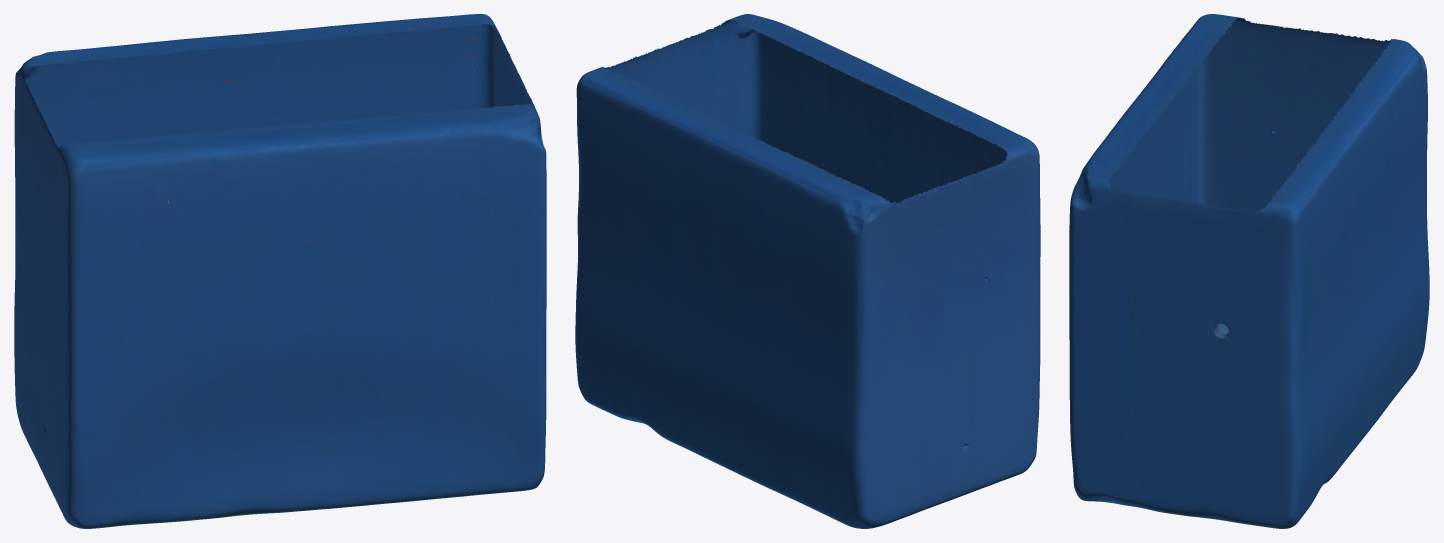
The model's file is block_05.glb.
The picture shows the model from 3 angles, left to right: view 1: azimuth 30°, elevation 25°; view 2: azimuth 150°, elevation 25°; view 3: azimuth 270°, elevation 25°; orthographic projection. The views are drawn at different scales.
Parts seen in each view (by area): view 1: block_05_part_01, block_05_part_03, block_05_part_02; view 2: block_05_part_02, block_05_part_03, block_05_part_01; view 3: block_05_part_01, block_05_part_03, block_05_part_02.
Part boxes in pixels (<box>): block_05_part_01: <box>144,14,546,510</box>; block_05_part_03: <box>42,14,530,528</box>; block_05_part_02: <box>14,30,304,503</box>; block_05_part_02: <box>693,119,1018,528</box>; block_05_part_03: <box>575,67,1040,480</box>; block_05_part_01: <box>576,14,989,387</box>; block_05_part_01: <box>1069,44,1303,528</box>; block_05_part_03: <box>1085,14,1357,528</box>; block_05_part_02: <box>1288,27,1429,456</box>.
Bounding box in the file's own units: 0.298 × 0.2256 × 0.2257.
Materials: 3 (3 with a texture image).
